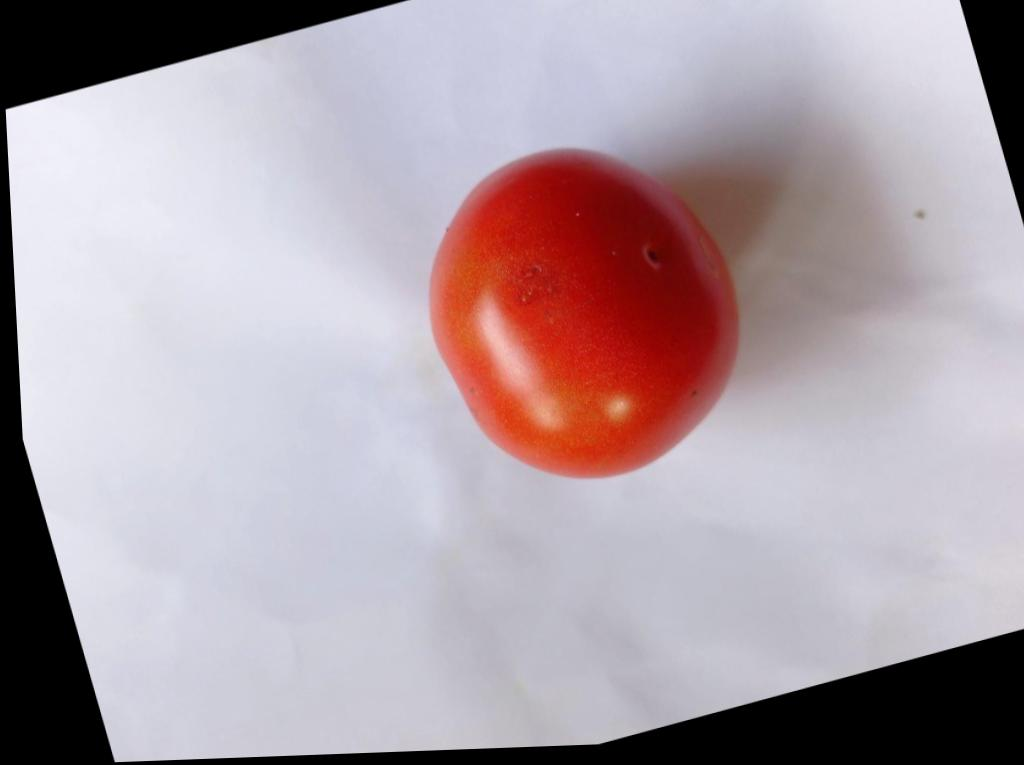tomato: (429, 149, 737, 477)
